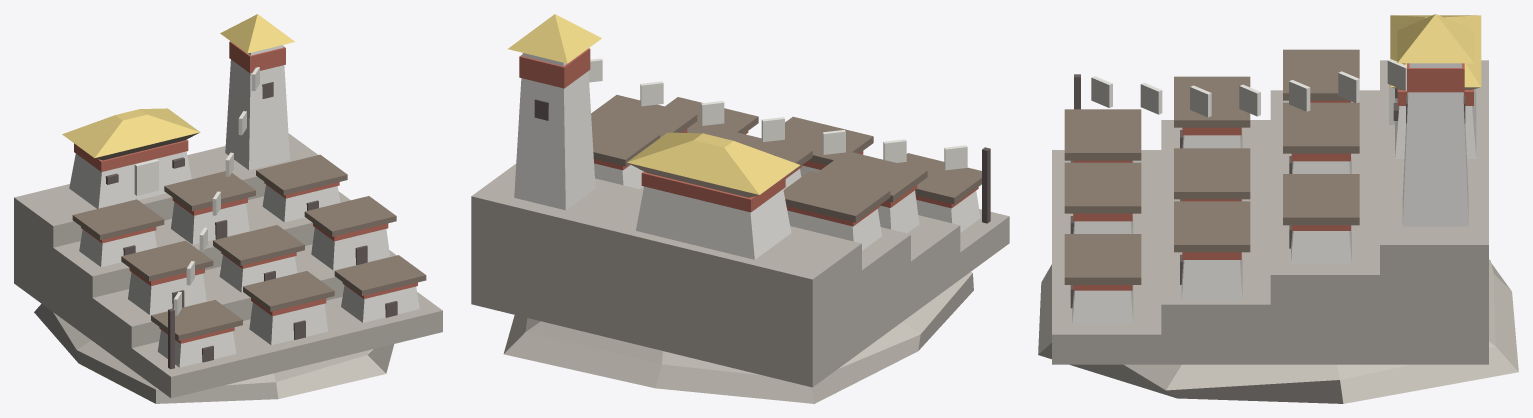
File: city.glb
3 renders of one model, left to right at view 1: azimuth 30°, elevation 25°; view 2: azimuth 150°, elevation 25°; view 3: azimuth 270°, elevation 25°, orthographic. The views are drawn at different scales.
Visible parts, largest first — view 1: highland_city; view 2: highland_city; view 3: highland_city.
Boxes of the visible parts, box(x1,y1,x2,y2) form: highland_city: box(14, 14, 442, 403); highland_city: box(471, 14, 1009, 403); highland_city: box(1038, 14, 1518, 403).
Bounding box in the file's own units: 0.957 × 0.7615 × 0.9462.
